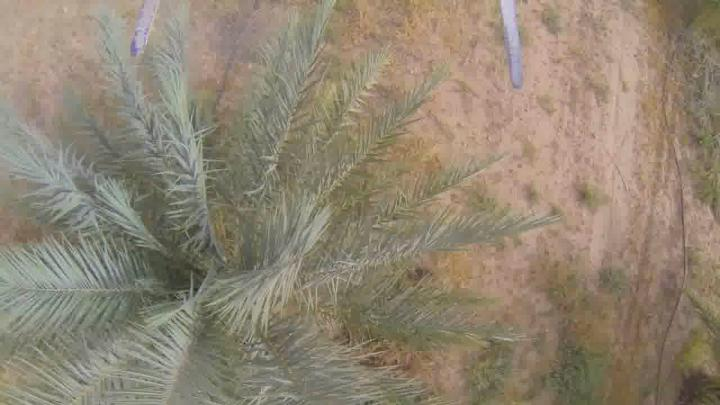Date-Palm-Crown: (24, 97, 356, 405)
